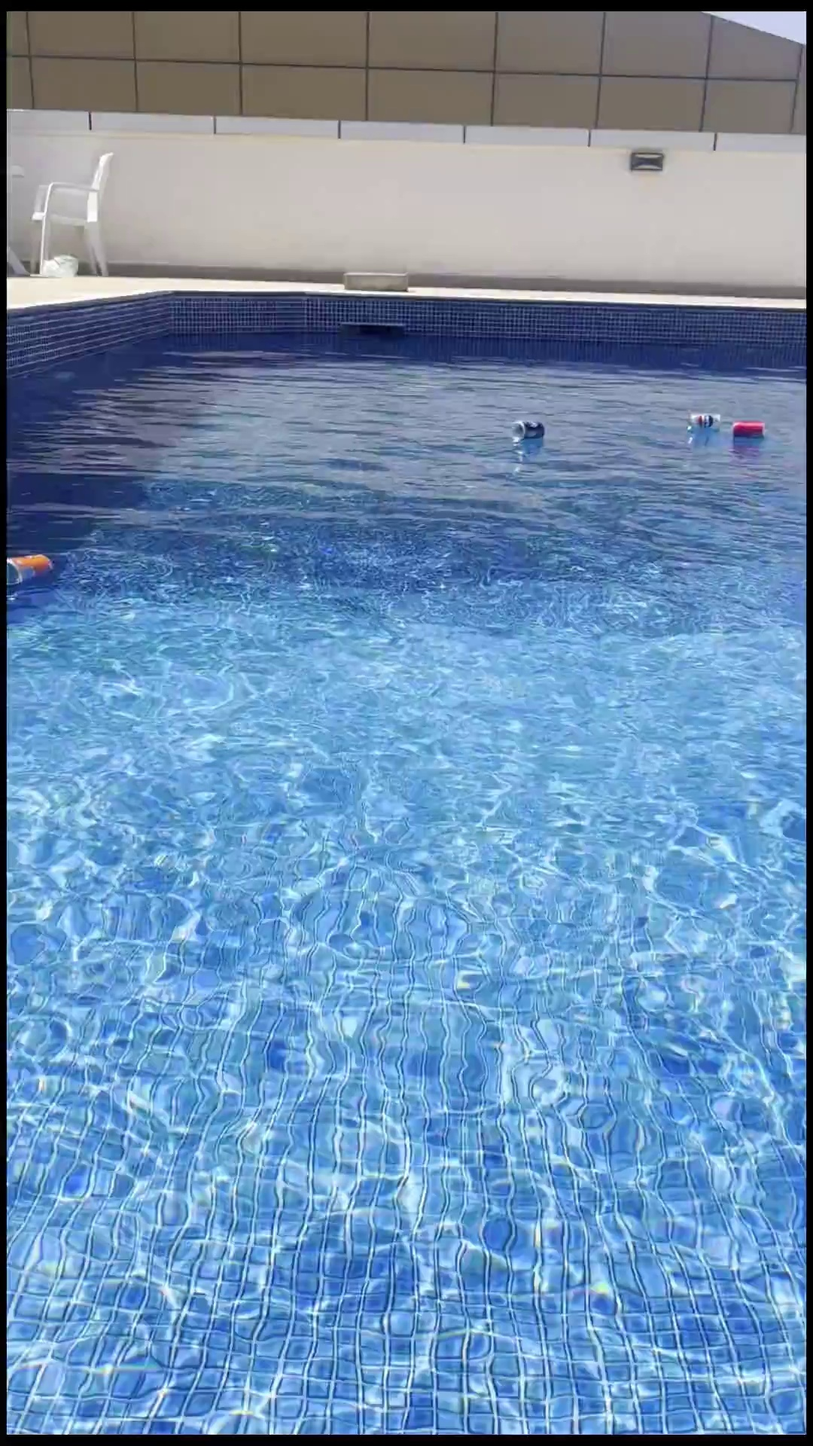debris: (8, 530, 57, 613), (684, 398, 723, 450), (729, 410, 769, 459), (506, 413, 548, 458)
